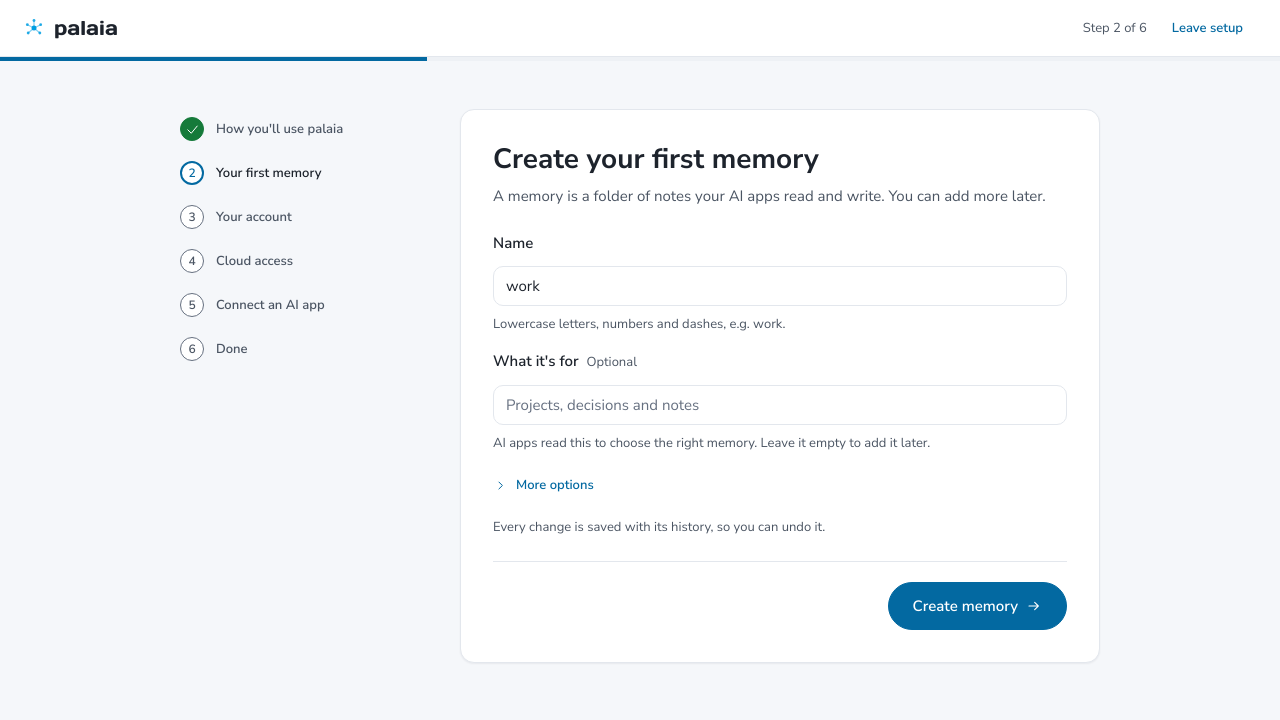
Test case: first-run setup › marks the optional fields, uses a neutral example and sends no empty description
Expected: the heading "Create your first memory" is shown, [493,140,819,178]
Click the button "Create memory" at (977, 606), box [888,582,1067,630]
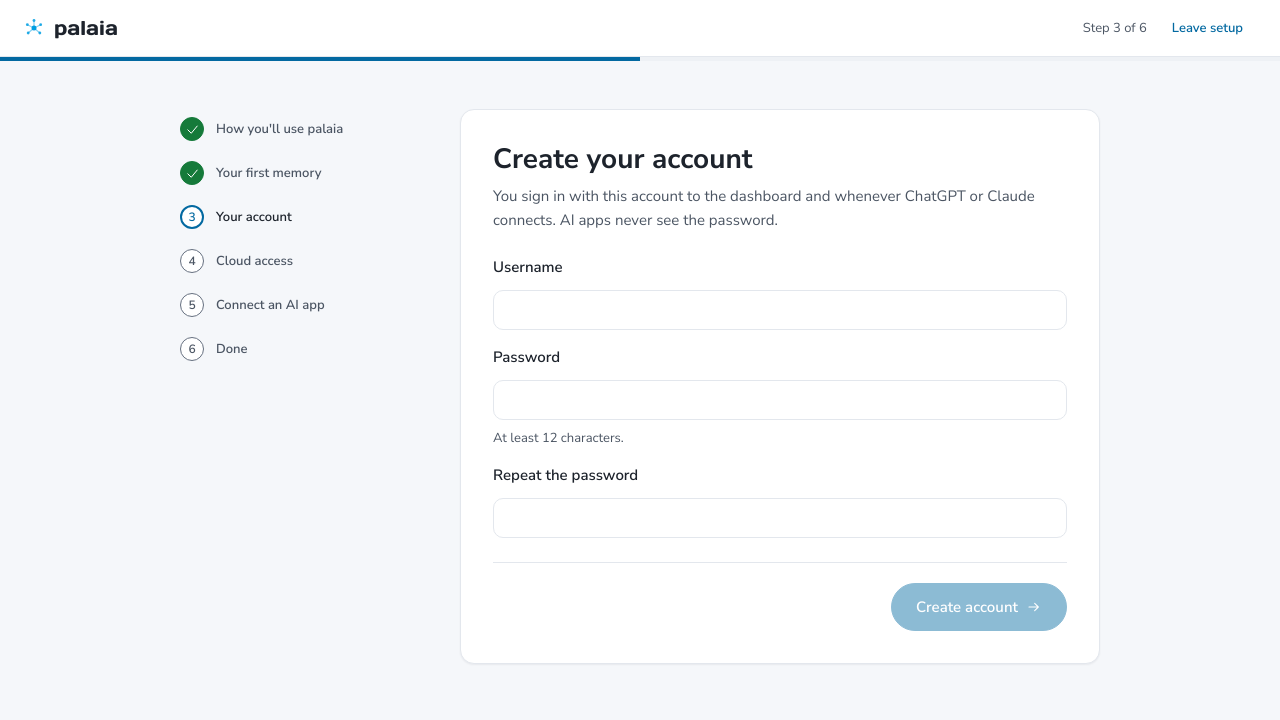
Now the heading "Create your account" is shown, box [493,140,753,178]
